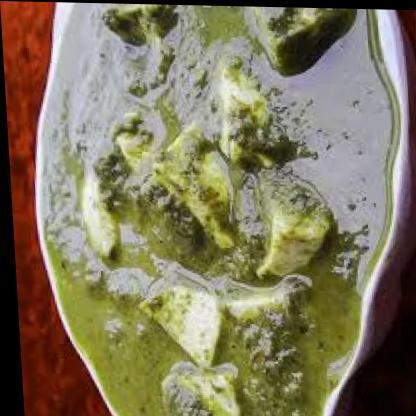palak_paneer: (26, 0, 413, 416)
